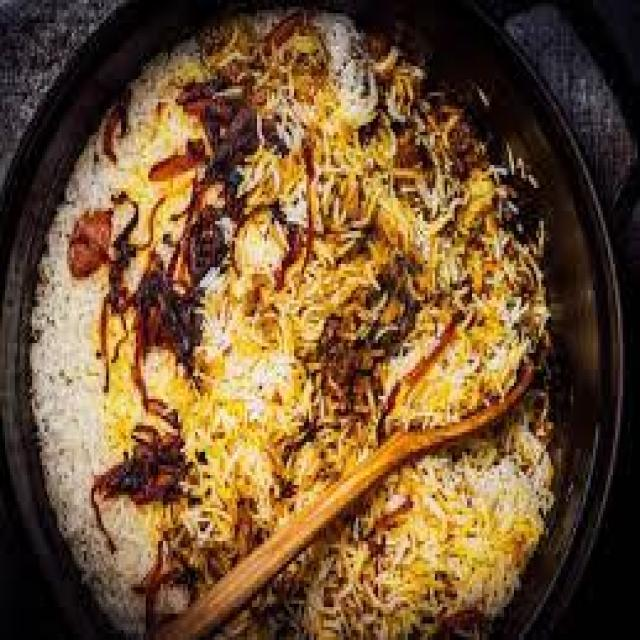chicken biryani: (78, 108, 510, 640)
